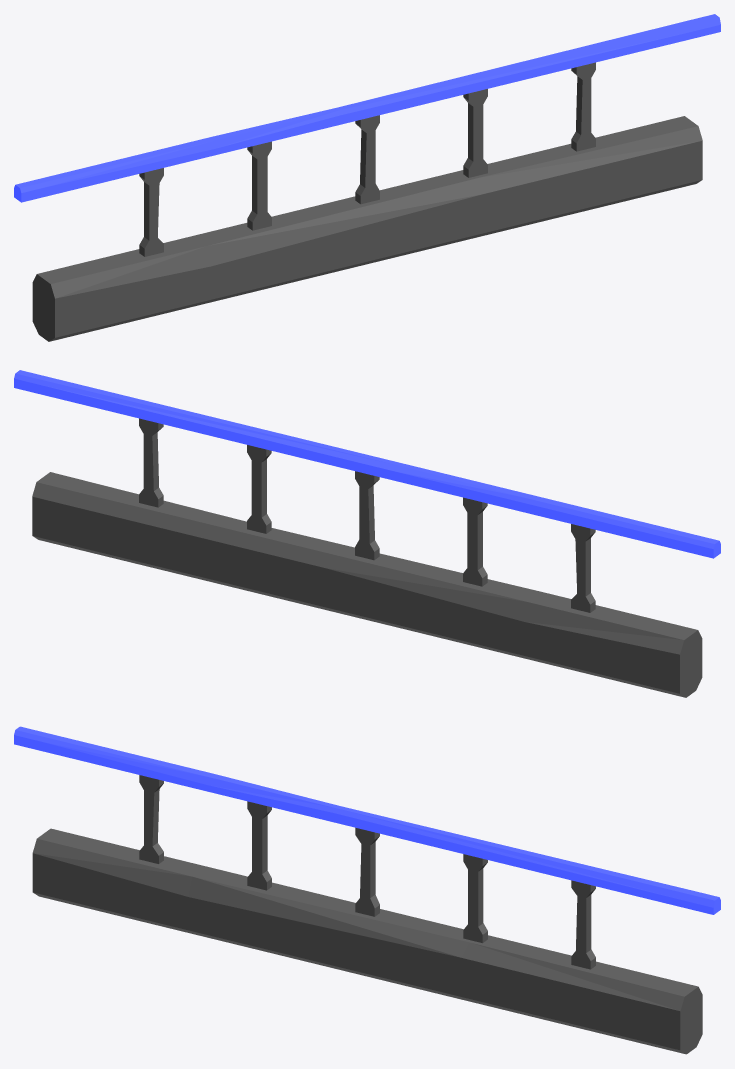
Rendered from RailingC.fbx.
The picture shows the model from 3 angles, top to bottom: view 1: azimuth 30°, elevation 25°; view 2: azimuth 150°, elevation 25°; view 3: azimuth 330°, elevation 25°; orthographic projection.
Visible parts, largest first — view 1: SM_Env_Railing_02; view 2: SM_Env_Railing_02; view 3: SM_Env_Railing_02.
Part boxes in pixels (x1,y1,x2,y2): SM_Env_Railing_02: [14, 14, 720, 341]; SM_Env_Railing_02: [14, 370, 720, 697]; SM_Env_Railing_02: [14, 726, 720, 1054].
Size of the model in its own units: 540 by 117 by 29.87.
